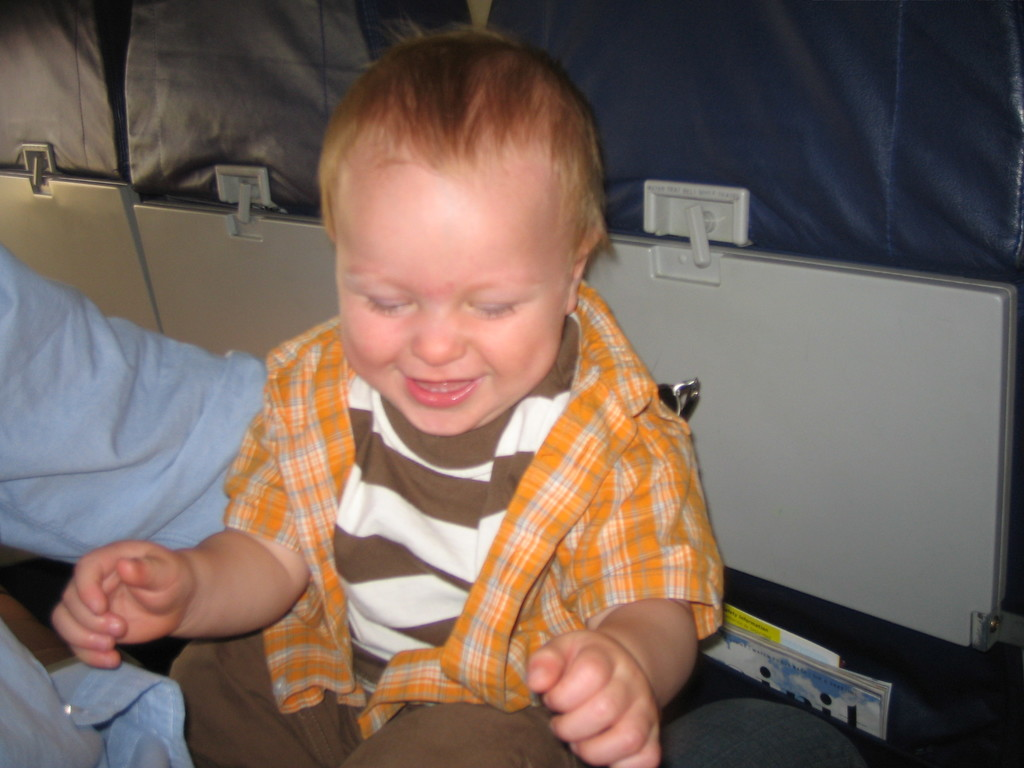Human_hand: (50, 539, 198, 673), (526, 626, 664, 767)
